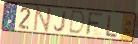2: (18, 6, 32, 31)
D: (67, 9, 86, 36)
F: (85, 12, 105, 38)
J: (53, 10, 68, 33)
L: (105, 13, 119, 39)
N: (32, 6, 53, 34)
